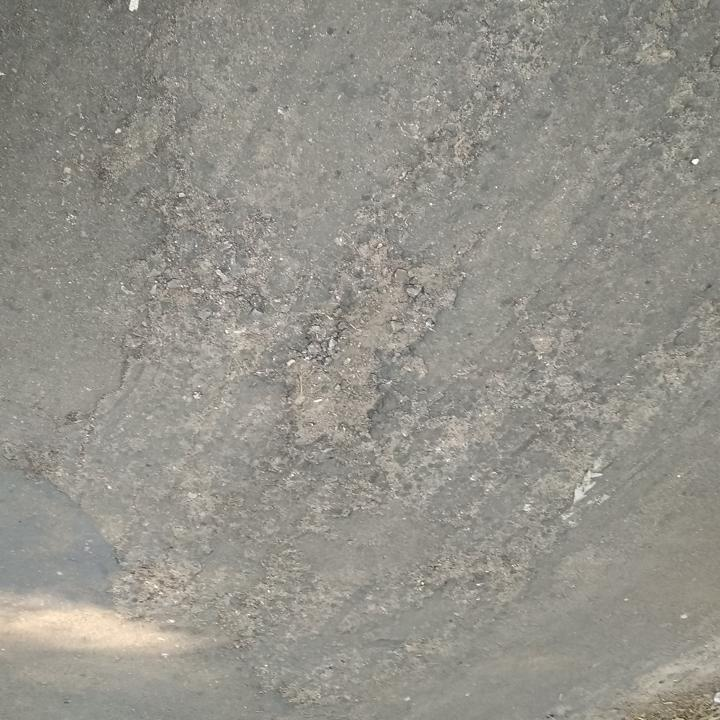pothole: (273, 246, 466, 458)
